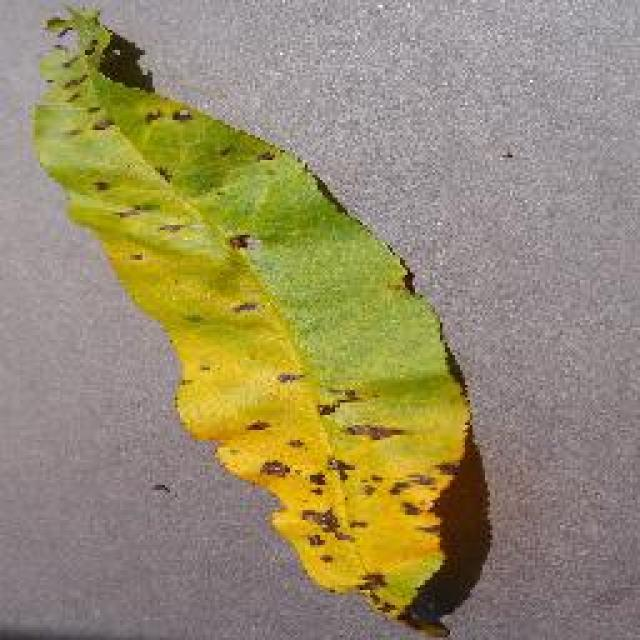Peach_Bacterial_Spot: (68, 68, 502, 615)
